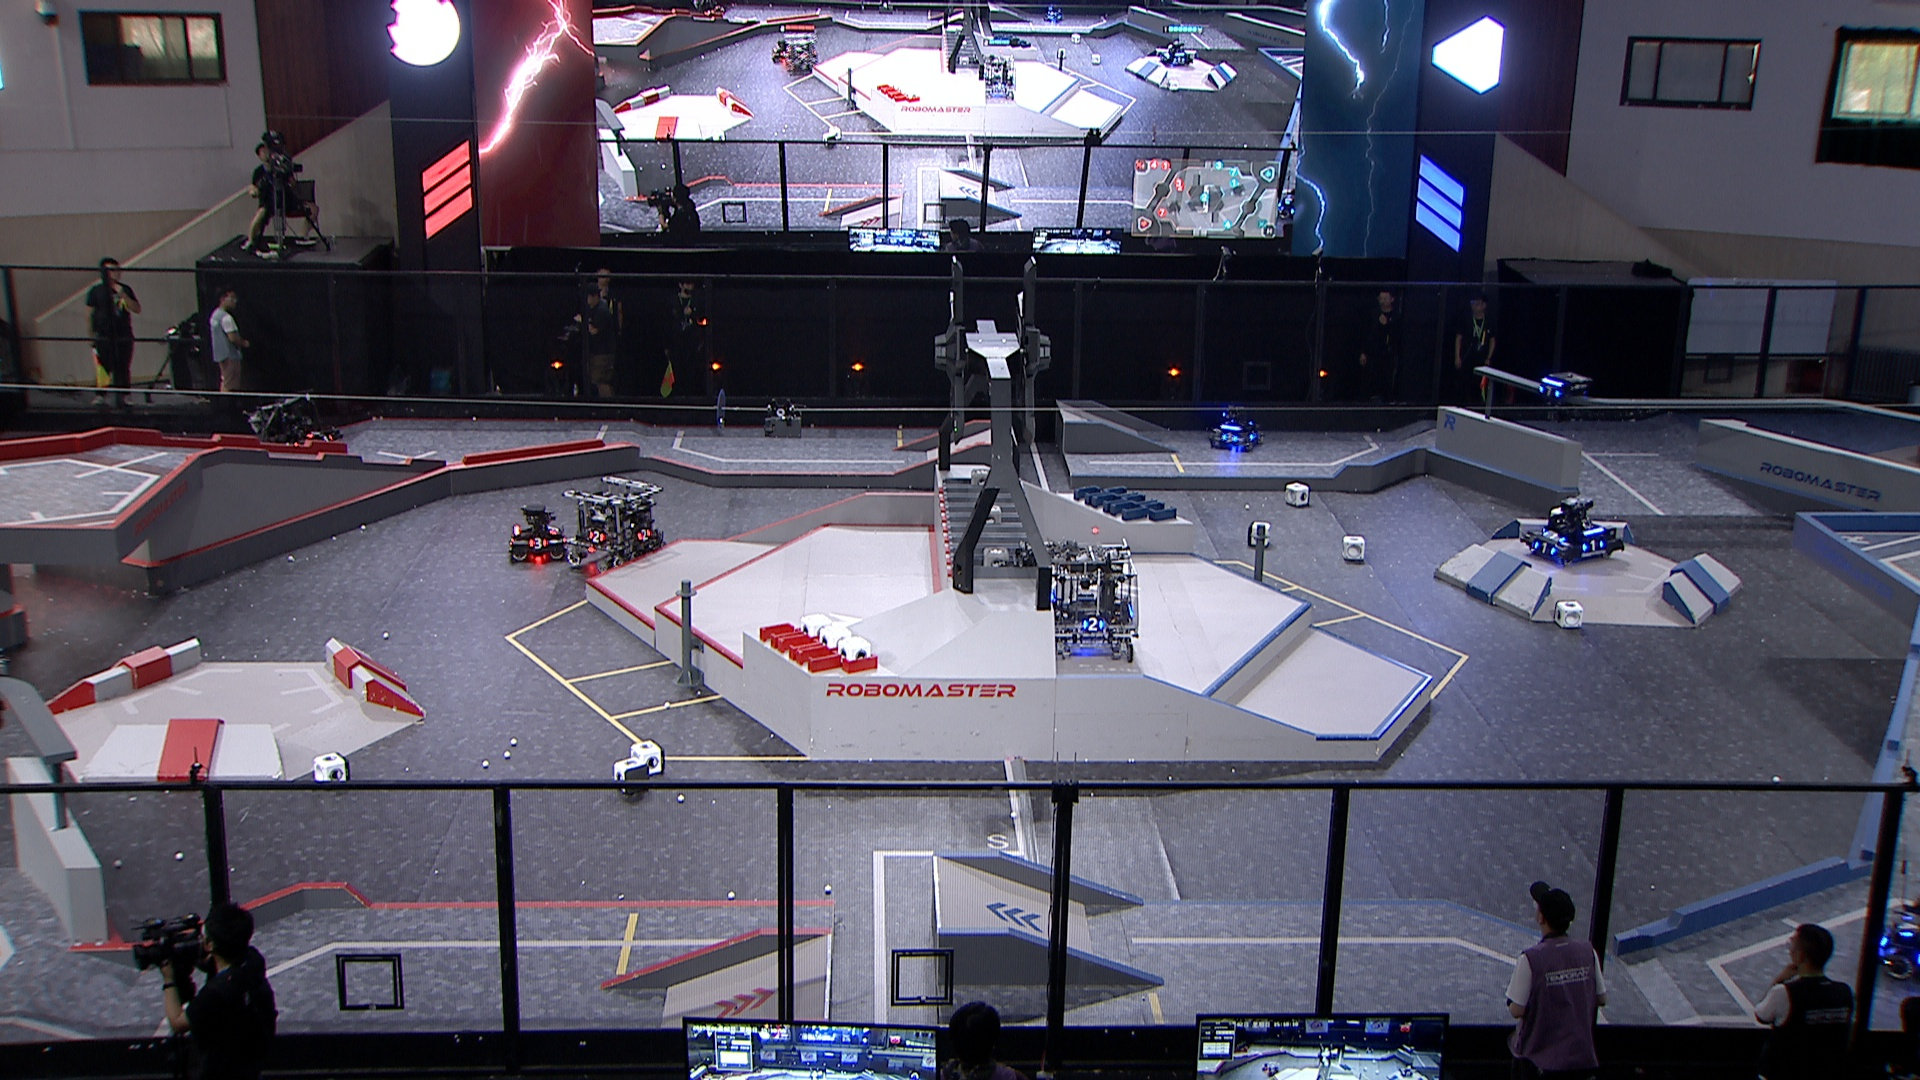armor: (1898, 915, 1920, 942), (1538, 527, 1569, 543), (1079, 616, 1102, 632), (1538, 386, 1564, 400), (1534, 541, 1555, 556), (1580, 541, 1607, 553), (527, 537, 547, 553), (585, 527, 605, 543), (305, 425, 327, 438), (636, 527, 654, 543), (545, 524, 560, 537), (319, 433, 338, 443), (1220, 433, 1240, 442)
car: (1035, 538, 1141, 665), (560, 475, 670, 578), (1516, 491, 1626, 570), (244, 386, 345, 471), (1876, 878, 1920, 988), (506, 504, 571, 562), (1205, 404, 1265, 452)
ignore: (978, 51, 1021, 102), (782, 32, 818, 73), (1156, 36, 1191, 69)
watcher: (1534, 368, 1589, 425)
